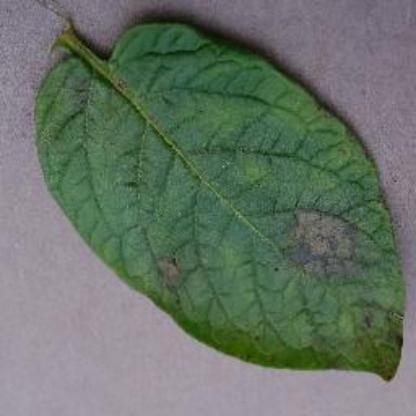Late-Blight: (36, 25, 416, 388)
